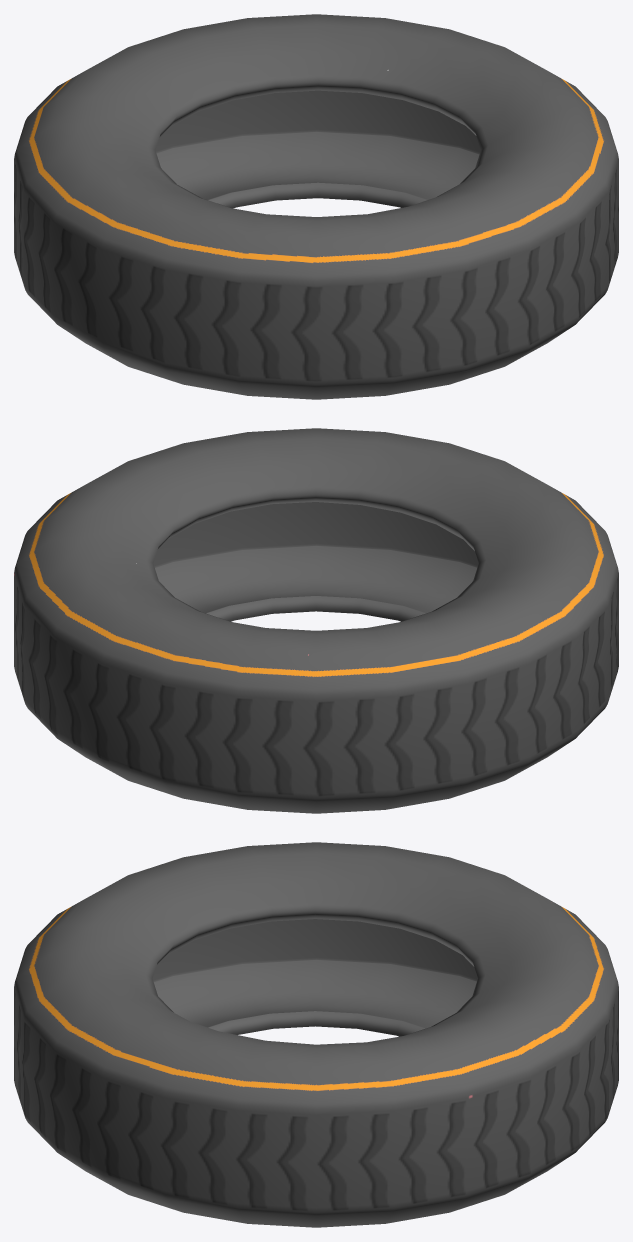
File: ban.fbx
3 views of the same model, one above another, from view 1: azimuth 30°, elevation 25°; view 2: azimuth 150°, elevation 25°; view 3: azimuth 270°, elevation 25° (orthographic).
Visible parts, largest first — view 1: Ban; view 2: Ban; view 3: Ban.
Boxes of the visible parts, x1=… form: Ban: x1=14, y1=14, x2=618, y2=399; Ban: x1=14, y1=428, x2=618, y2=813; Ban: x1=14, y1=842, x2=618, y2=1227.
Bounding box in the file's own units: 78.79 × 24.1 × 78.79.
1 material, 1 textured.
